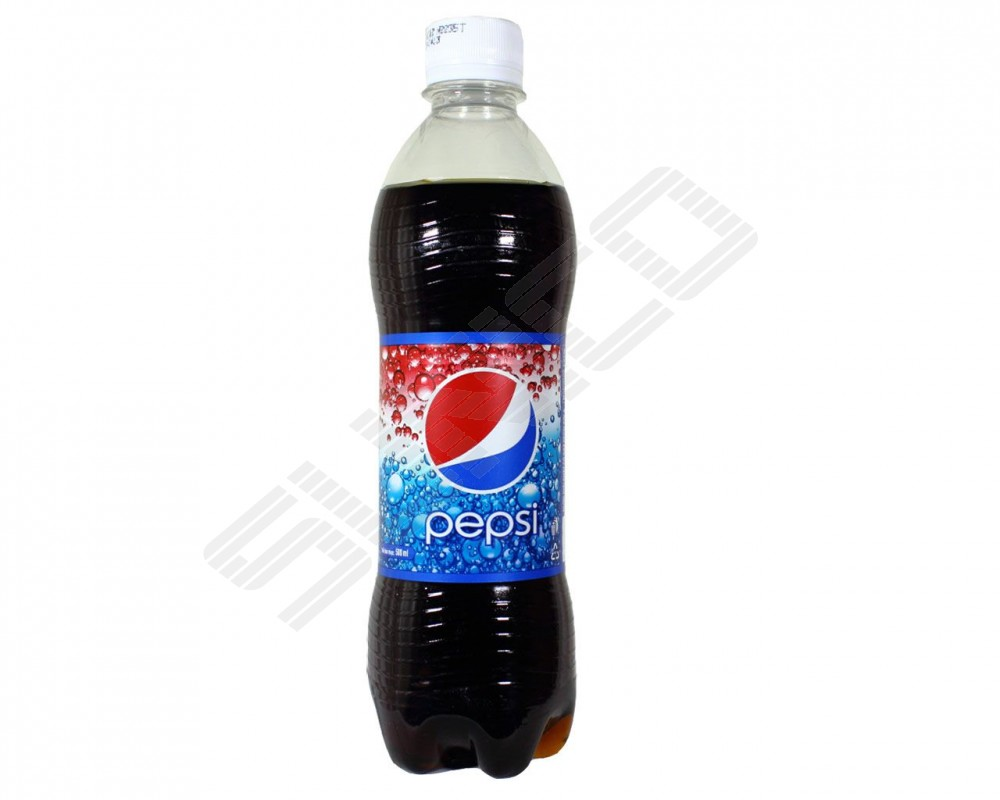pepsi: (422, 364, 537, 494)
